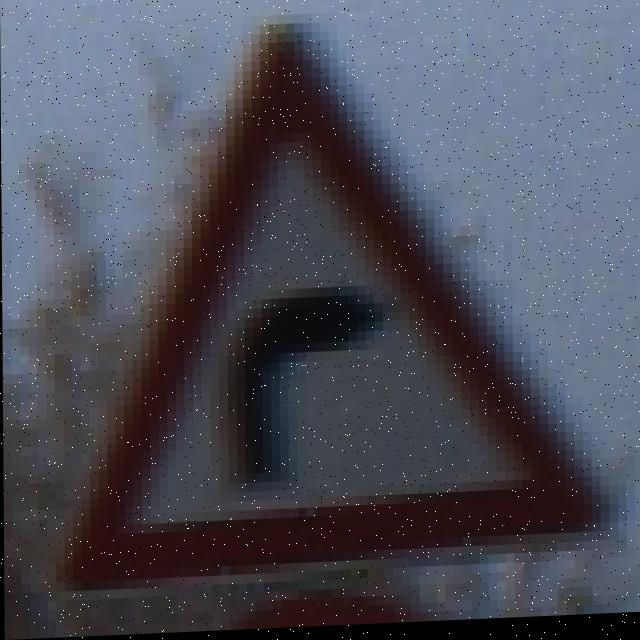right_turn: (88, 49, 629, 598)
